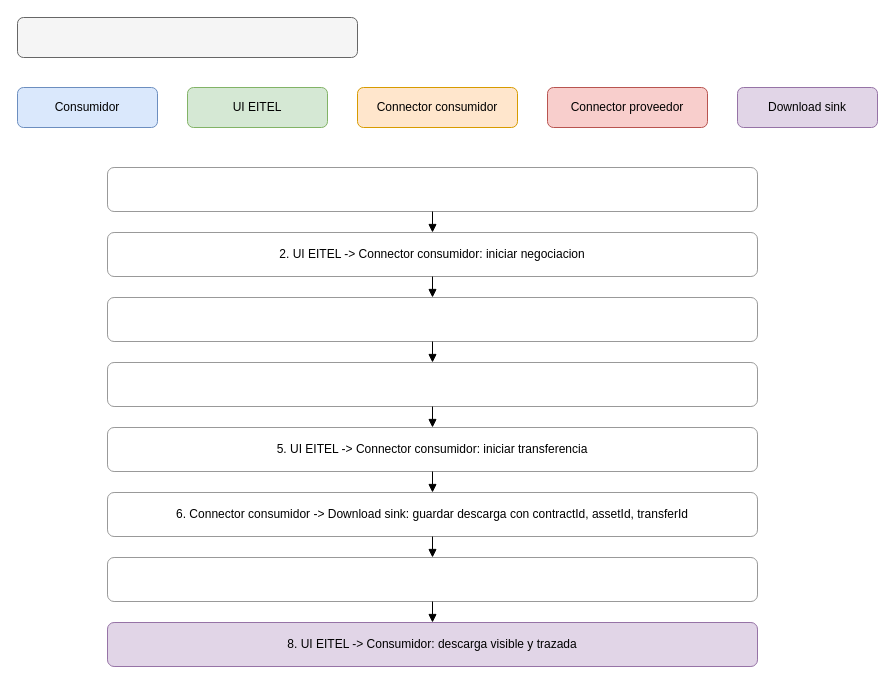
Some shapes in this 895 by 684 pixel diagram are drawn without their labels. Each missing label, with the centre of its shape:
1. Consumidor -> UI EITEL: descubre asset y solicita contrato: the point at 432,189
3. Connector consumidor -> Connector proveedor: contract negotiation: the point at 432,319
4. Connector proveedor -> Connector consumidor: contract agreement: the point at 432,384
7. Download sink -> UI EITEL: registro disponible: the point at 432,579
Negociar y descargar en local: the point at 187,37
